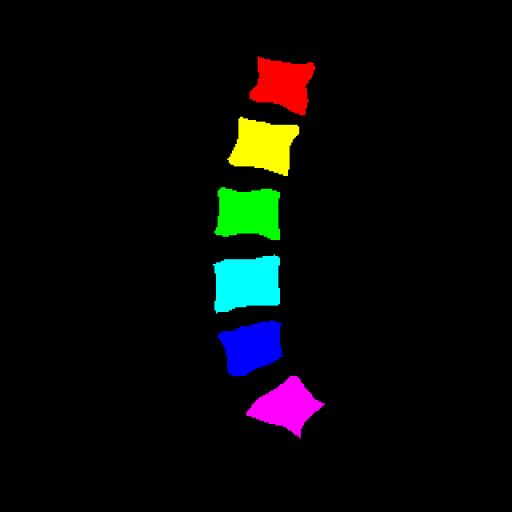L1: (250, 57, 315, 114)
L2: (228, 117, 299, 176)
L3: (215, 187, 280, 240)
L4: (214, 255, 280, 312)
L5: (218, 320, 282, 376)
S1: (246, 376, 324, 438)
